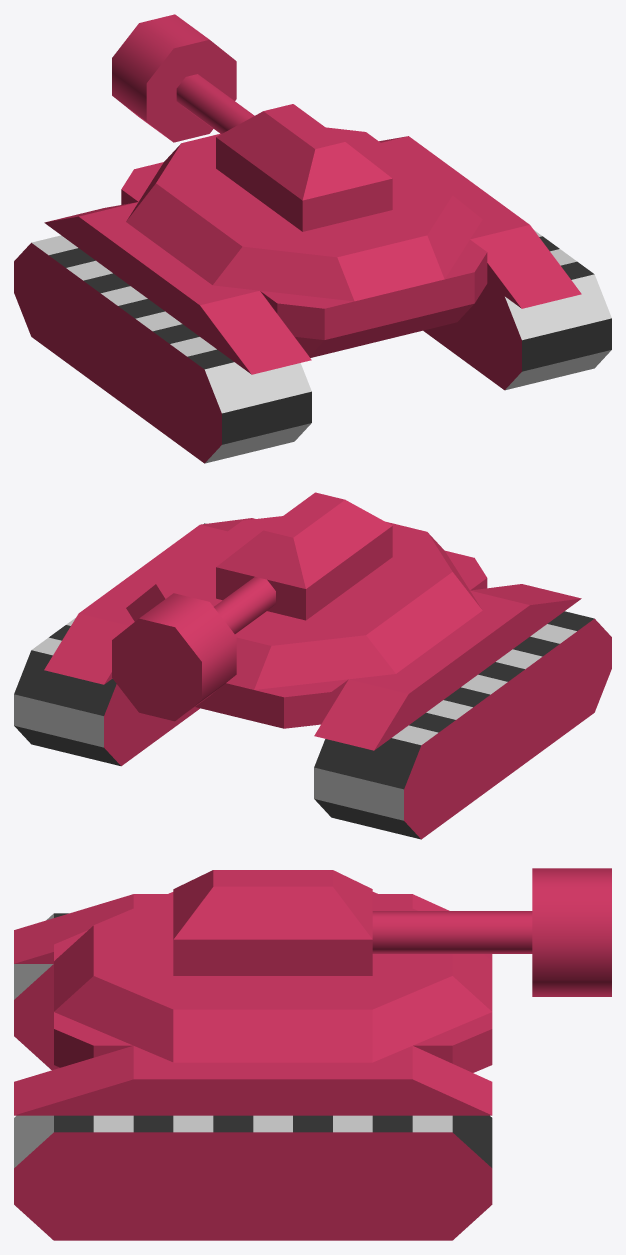
Rendered from playerC.fbx.
The picture shows the model from 3 angles, top to bottom: view 1: azimuth 30°, elevation 25°; view 2: azimuth 150°, elevation 25°; view 3: azimuth 270°, elevation 25°; orthographic projection. The views are drawn at different scales.
Parts seen in each view (by area): view 1: playerC; view 2: playerC; view 3: playerC.
Part boxes in pixels (x1=…): playerC: x1=14, y1=14, x2=611, y2=463; playerC: x1=14, y1=492, x2=611, y2=839; playerC: x1=14, y1=868, x2=611, y2=1240.
Size of the model in its own units: 1.63 by 0.875 by 1.88.
